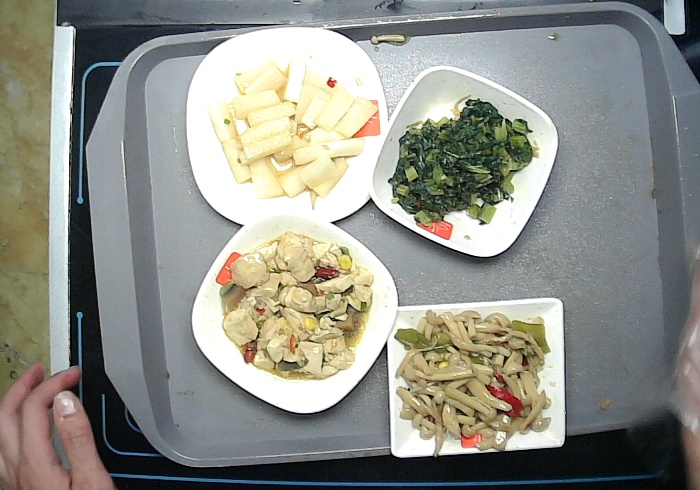SHKJ-Bai_Se_Cai_Die: (190, 212, 399, 413)
SHKJ-Bai_Se_Si_Fang_Cai_Die: (183, 24, 388, 226)
SHKJ-Bai_Se_Xiao_Fang_Die: (365, 64, 560, 256)
SHKJ-Si_Fang_Min: (384, 295, 568, 458)
